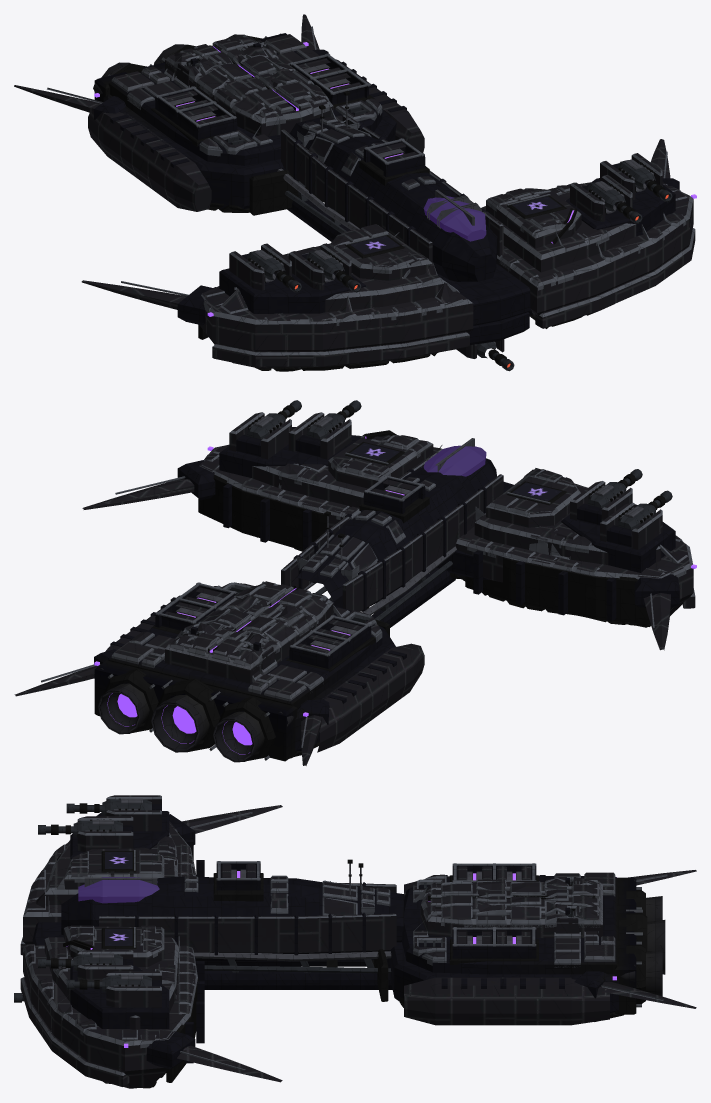
File: eris-schiff3.glb
3 views of the same model, one above another, from view 1: azimuth 30°, elevation 25°; view 2: azimuth 150°, elevation 25°; view 3: azimuth 270°, elevation 25° (orthographic). The views are drawn at different scales.
Parts seen in each view (by area): view 1: Hull_LOD0, Laser_04, Laser_01, Laser_03, Laser_02; view 2: Hull_LOD0, EngineLight, Laser_01, Laser_04, Laser_02, Laser_03; view 3: Hull_LOD0, Laser_02, Laser_04, Laser_03, Laser_01, Faction_Insignia_Left, Insignia_ClanSlot_Right.
Part boxes in pixels (bbox=[...]): Hull_LOD0: bbox=[14, 14, 696, 371]; Laser_04: bbox=[247, 250, 301, 292]; Laser_01: bbox=[587, 181, 642, 223]; Laser_03: bbox=[306, 249, 361, 292]; Laser_02: bbox=[617, 159, 672, 202]; Hull_LOD0: bbox=[14, 412, 696, 765]; EngineLight: bbox=[107, 693, 252, 754]; Laser_01: bbox=[306, 400, 361, 439]; Laser_04: bbox=[617, 490, 672, 529]; Laser_02: bbox=[247, 400, 301, 439]; Laser_03: bbox=[587, 469, 642, 507]; Hull_LOD0: bbox=[20, 795, 696, 1088]; Laser_02: bbox=[66, 974, 151, 992]; Laser_04: bbox=[66, 798, 151, 816]; Laser_03: bbox=[38, 819, 122, 837]; Laser_01: bbox=[38, 953, 122, 971]; Faction_Insignia_Left: bbox=[105, 928, 132, 945]; Insignia_ClanSlot_Right: bbox=[105, 852, 132, 868].
Size of the model in its own units: 54.68 by 13.86 by 57.02.
6 materials, 4 textured.
